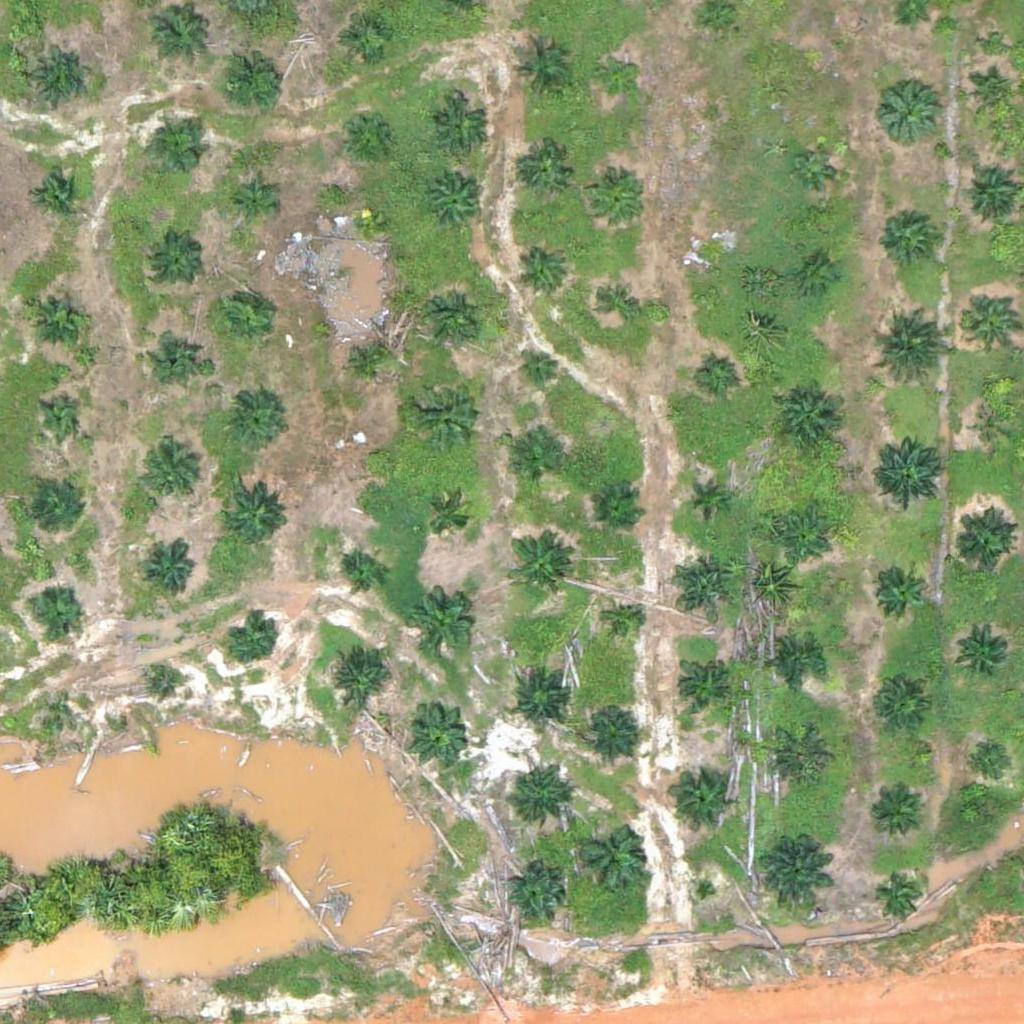Kelapa_Sawit: (215, 45, 290, 121), (410, 371, 485, 447), (757, 833, 832, 909), (571, 820, 646, 896), (869, 314, 944, 389), (871, 428, 946, 503), (670, 550, 733, 613), (407, 591, 470, 654), (875, 78, 938, 141), (429, 96, 492, 159), (29, 46, 92, 109), (951, 512, 1014, 575), (956, 619, 1019, 682), (504, 768, 567, 831), (403, 700, 466, 763), (671, 769, 734, 832), (503, 865, 566, 928), (506, 532, 568, 595), (223, 480, 285, 543), (774, 388, 836, 451), (876, 205, 938, 268), (141, 443, 203, 506), (421, 288, 483, 351), (509, 40, 571, 103), (220, 390, 282, 453), (27, 285, 89, 348), (959, 162, 1021, 225), (961, 291, 1023, 354), (770, 728, 832, 791), (326, 645, 388, 708), (426, 175, 488, 237), (511, 670, 573, 732), (578, 698, 640, 760), (776, 515, 826, 566), (871, 566, 921, 617), (30, 581, 80, 632), (34, 482, 84, 533), (31, 170, 81, 221), (875, 679, 925, 730), (968, 737, 1018, 788), (771, 637, 821, 687), (145, 547, 195, 597), (226, 614, 276, 664), (152, 331, 202, 381), (155, 125, 205, 175), (151, 235, 201, 285), (341, 108, 391, 158), (340, 12, 390, 62), (522, 143, 572, 193), (592, 175, 642, 225), (505, 438, 555, 488), (218, 291, 268, 341), (870, 790, 920, 840), (675, 660, 725, 710), (876, 871, 926, 921), (591, 485, 641, 535), (422, 494, 472, 544), (337, 551, 387, 601), (345, 334, 395, 384), (965, 71, 1015, 121), (517, 247, 567, 297), (233, 181, 271, 219), (607, 606, 645, 644), (520, 349, 558, 387), (597, 60, 635, 98), (695, 243, 733, 281), (601, 285, 639, 323), (800, 259, 837, 297), (975, 408, 1012, 446), (686, 481, 723, 519), (700, 357, 738, 394), (40, 398, 77, 436), (795, 147, 832, 184), (151, 667, 176, 692), (354, 209, 379, 234), (361, 444, 386, 469), (56, 701, 81, 726)
